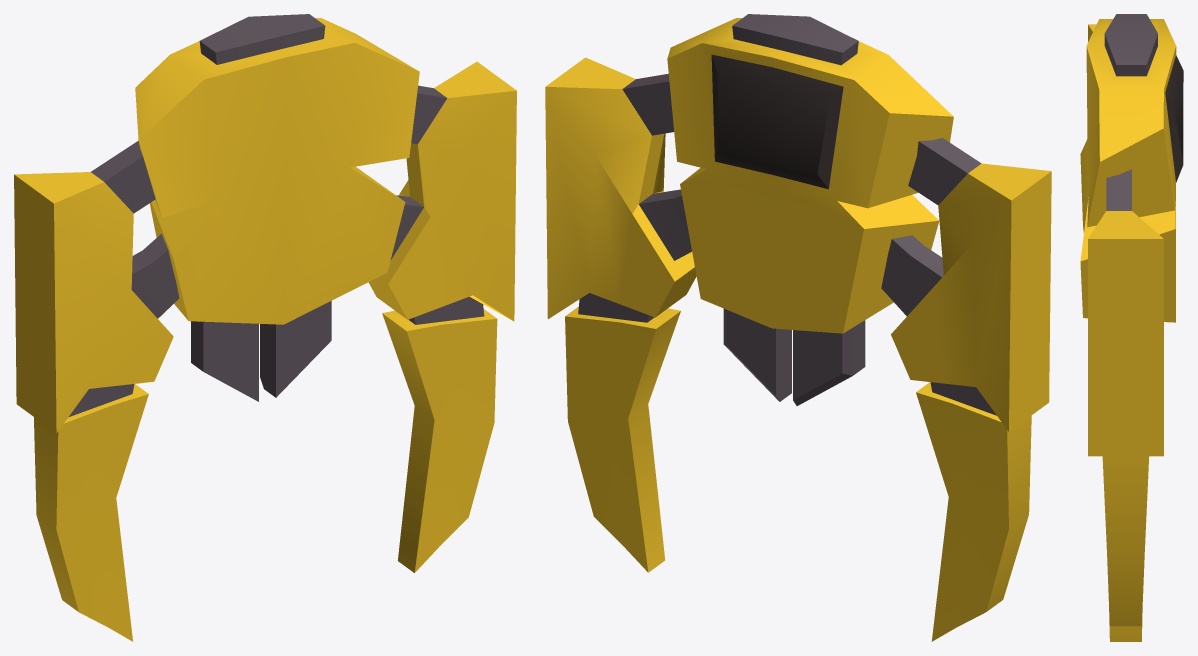
Rendered from spaceship_enemy_yellow.fbx.
3 views of the same model, side by side, from view 1: azimuth 30°, elevation 25°; view 2: azimuth 150°, elevation 25°; view 3: azimuth 270°, elevation 25° (orthographic). The views are drawn at different scales.
Visible parts, largest first — view 1: Cube.001; view 2: Cube.001; view 3: Cube.001.
Part boxes in pixels (<box>): Cube.001: <box>14,14,516,641</box>; Cube.001: <box>545,14,1051,641</box>; Cube.001: <box>1080,14,1183,641</box>.
Size of the model in its own units: 13272 by 15676 by 2695.
